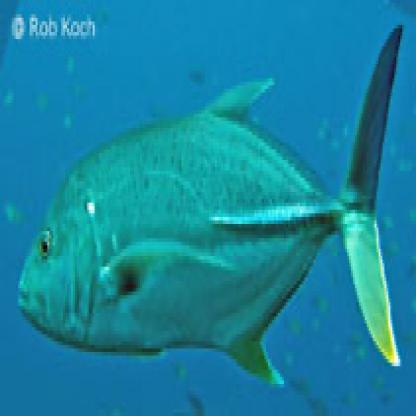jack: (15, 16, 409, 407)
